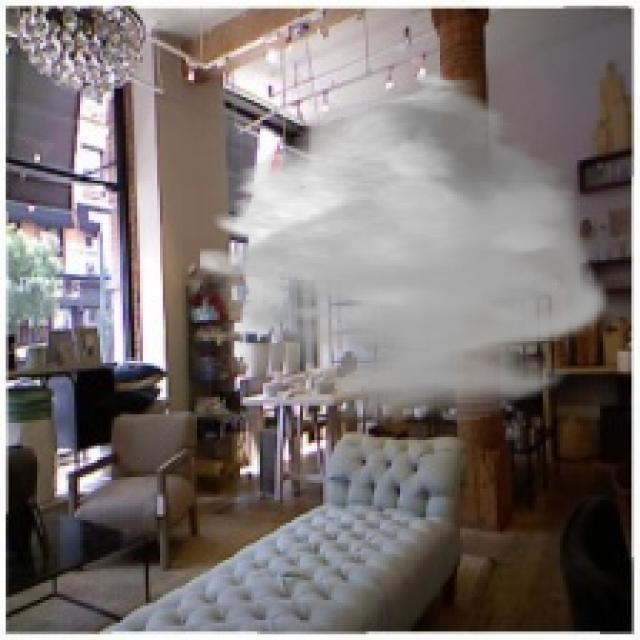Smoke: (200, 68, 614, 426)
